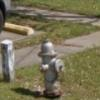a fire hydrant: (38, 42, 64, 98)
